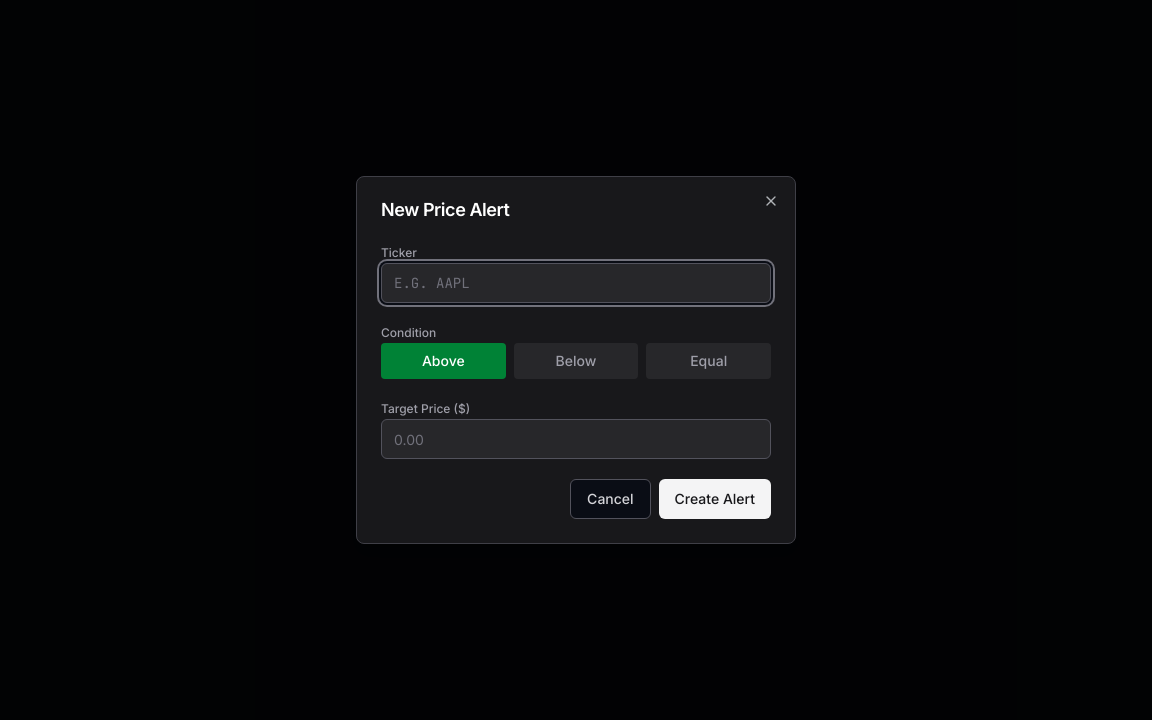
Test: AlertCreateDialog › shows validation error when ticker is empty on submit
Step 1. Click the button "Create Alert" → click(715, 499), box left=659, top=479, right=771, bottom=519
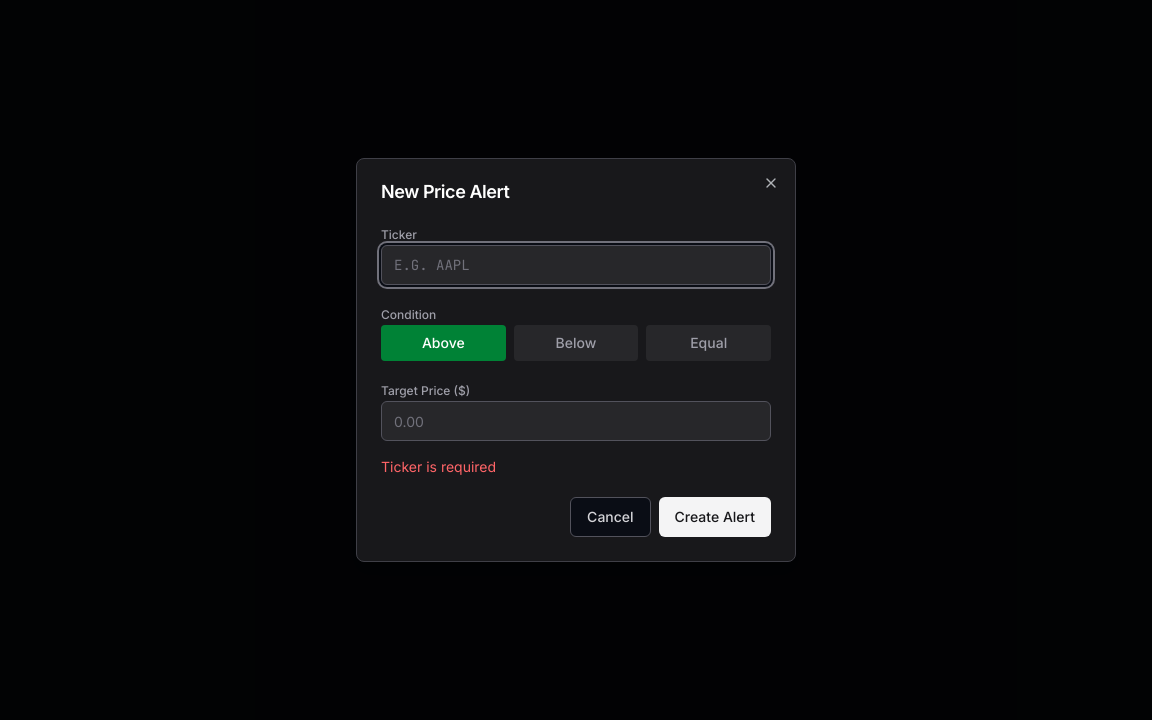
Now the text "Ticker is required" is shown, box left=381, top=458, right=496, bottom=475
